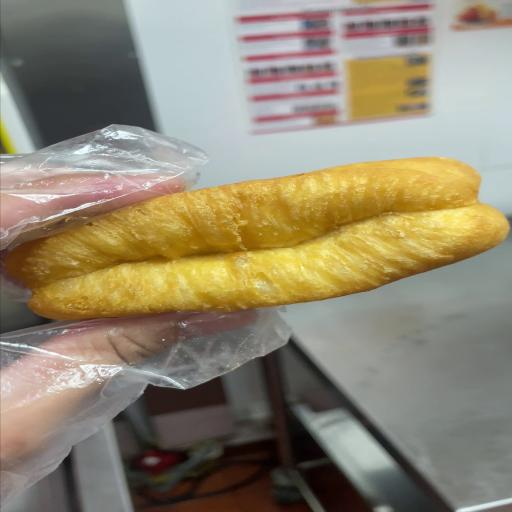brand_golden_good: (8, 157, 506, 319)
